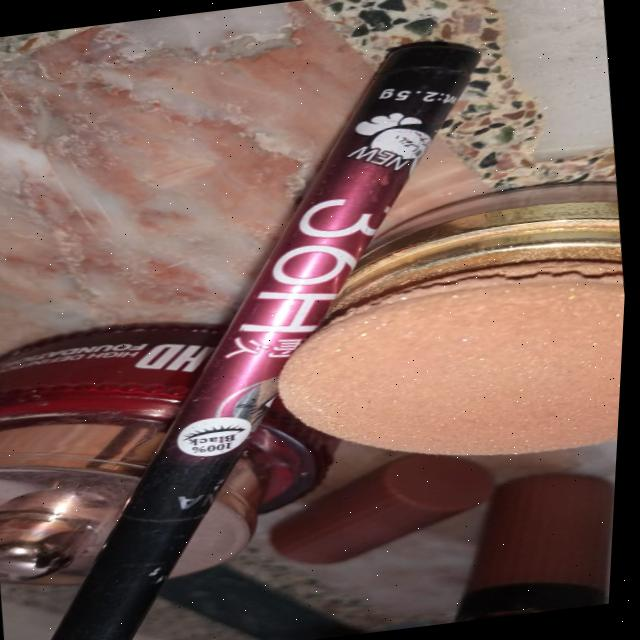beauty blender: (256, 246, 630, 505)
eye liner: (0, 22, 568, 640)
